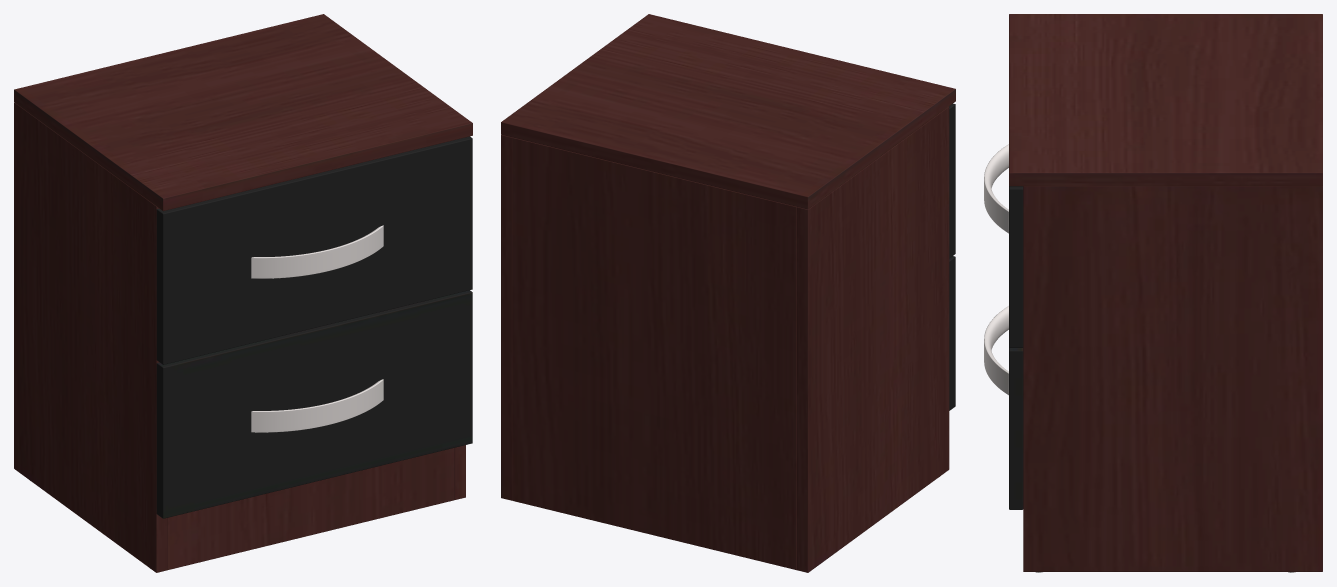
Rendered from abo-B079VK52WZ.glb.
3 renders of one model, left to right at view 1: azimuth 30°, elevation 25°; view 2: azimuth 150°, elevation 25°; view 3: azimuth 270°, elevation 25°, orthographic. The views are drawn at different scales.
Size of the model in its own units: 0.4 by 0.47 by 0.36.
1 material, 1 textured.
